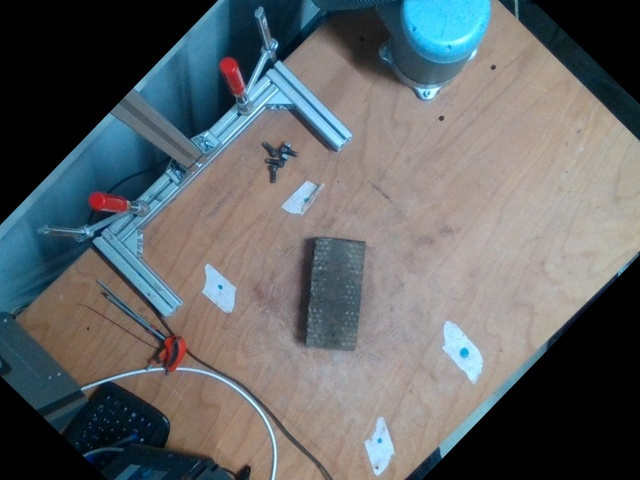brick: (306, 237, 366, 352)
